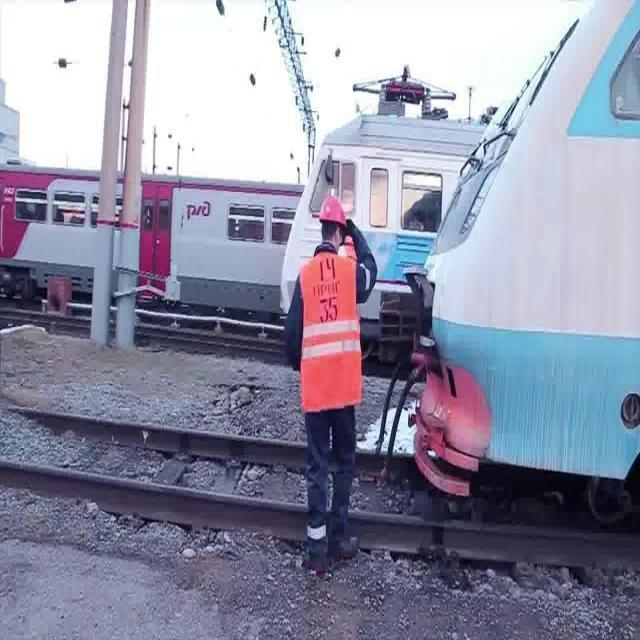vest: (299, 250, 363, 415)
